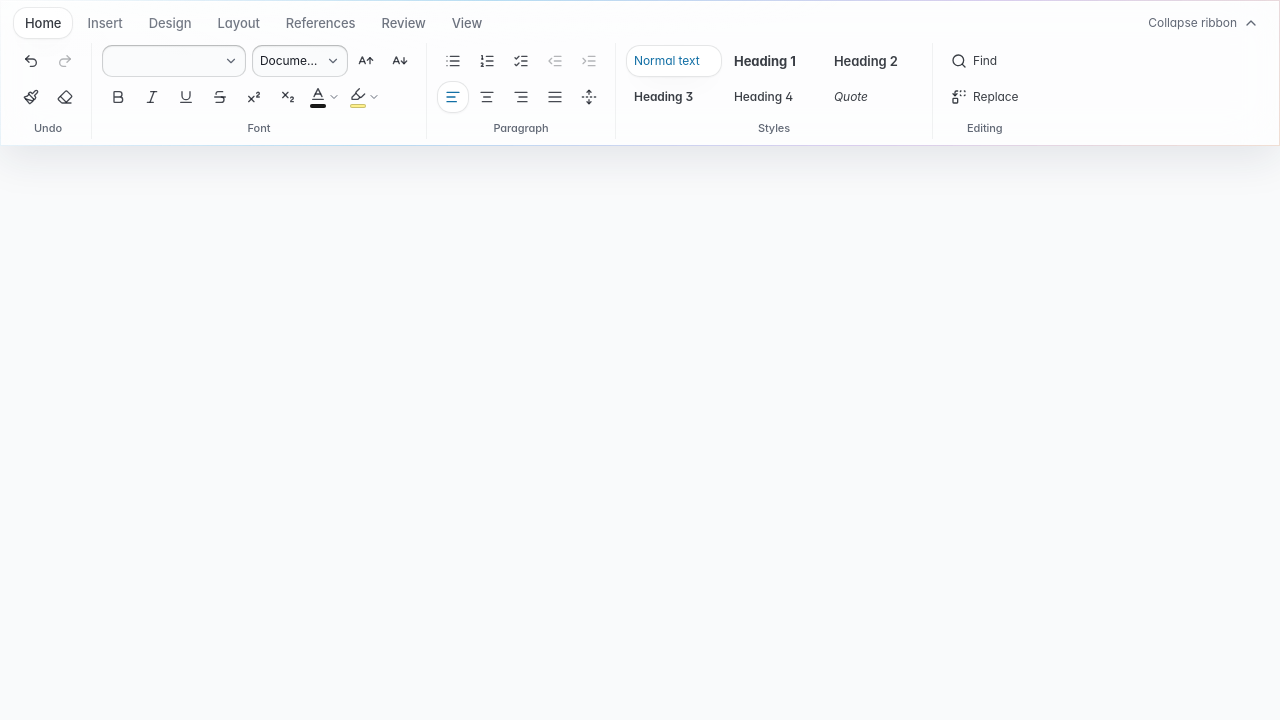
Test: views, ribbon and card › focuses the card when opened from the keyboard and returns focus on Escape
Click the tab "Review".
click(404, 23)  # box [370,7,438,39]
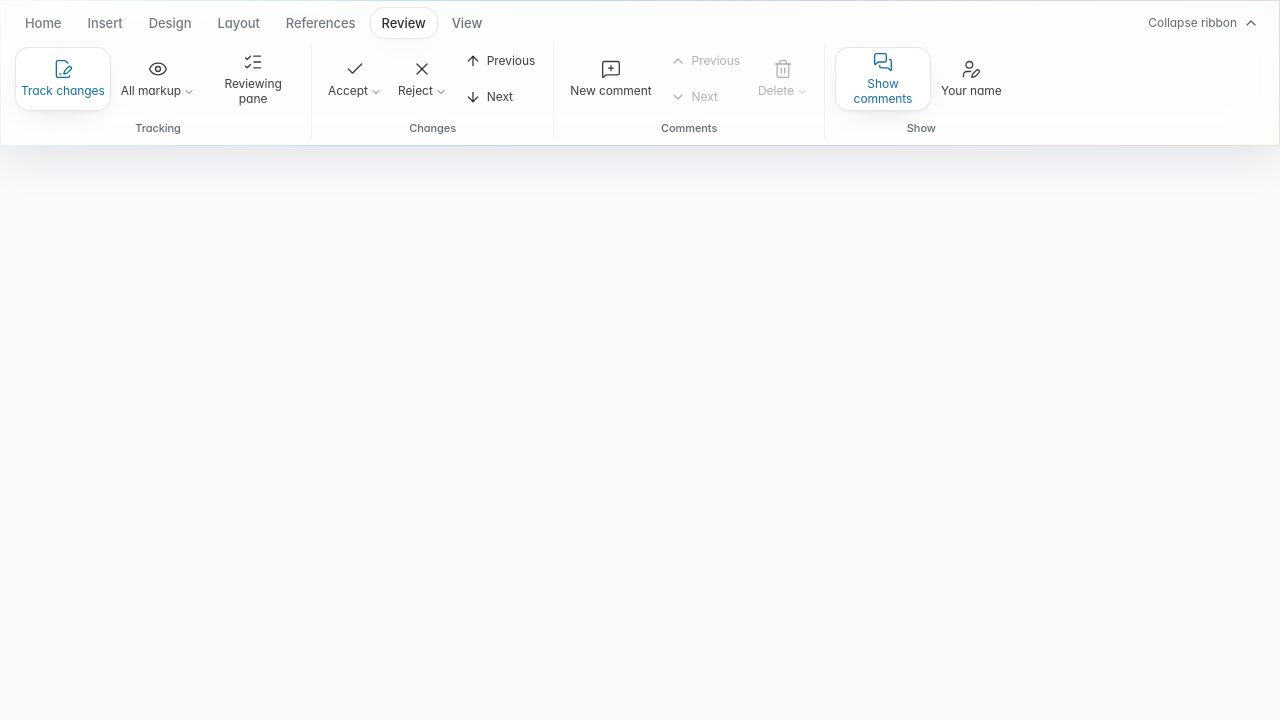
Press Enter in the button with test id "doc-track-next", box [457,80,543,112]
Click the button with test id "doc-track-next".
click(500, 96)  # box [457,80,543,112]
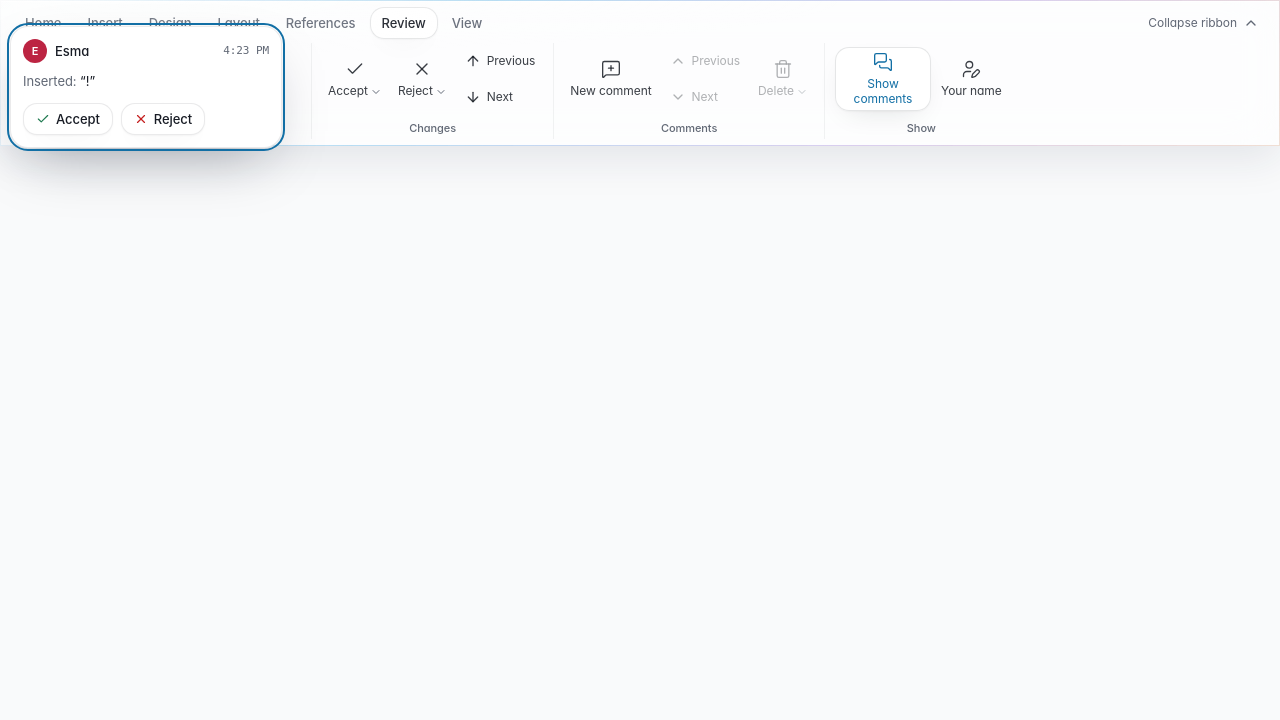
Press Escape in the dialog with test id "track-change-card", box [10,26,282,148]
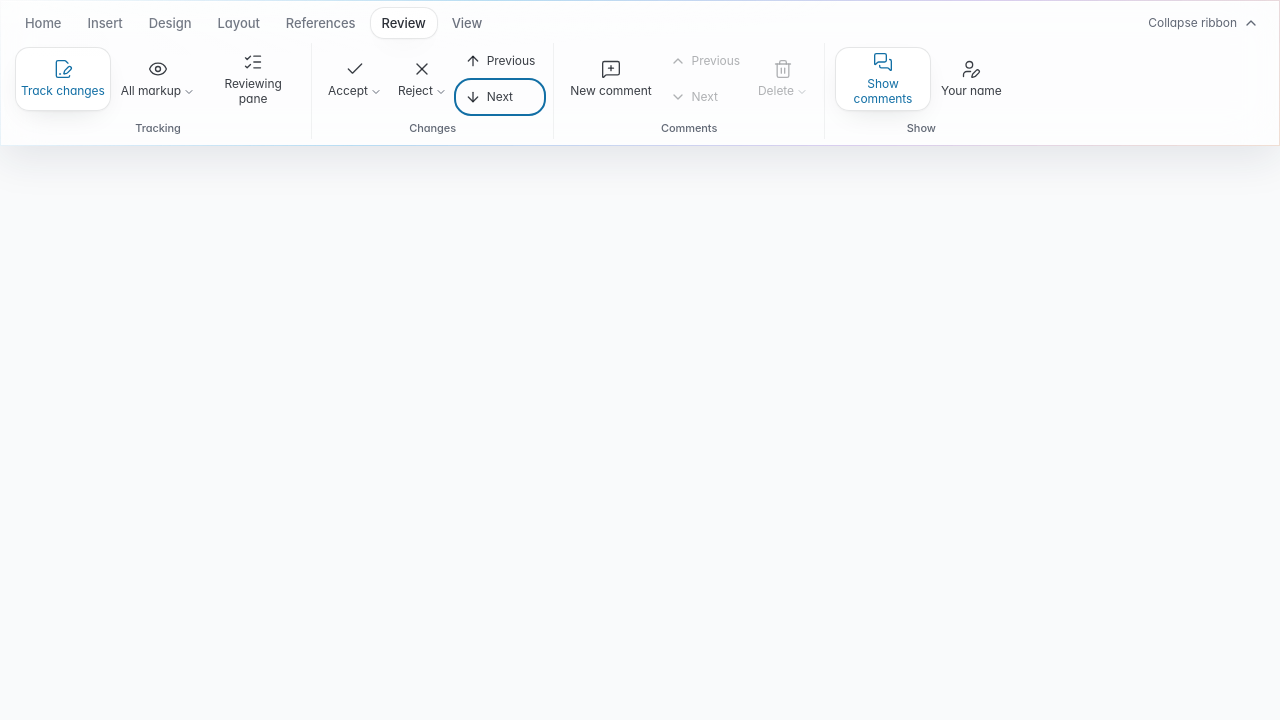
Result: the dialog with test id "track-change-card" is gone
